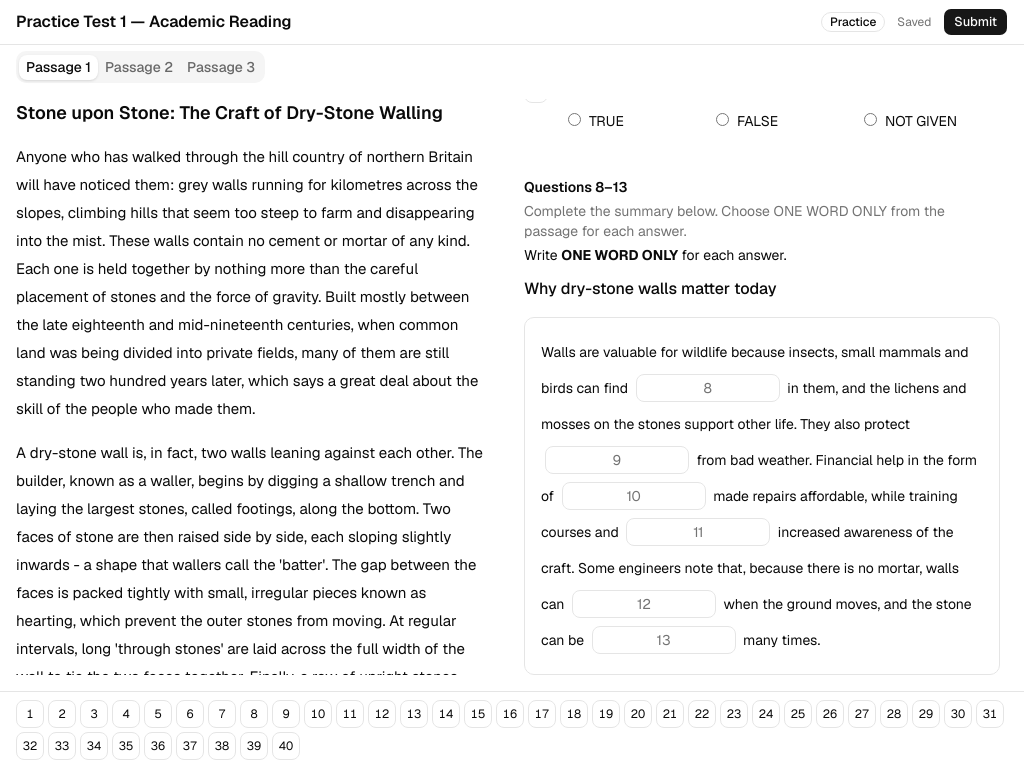
offline submit is blocked with a message
(page scrolled)
Type "moss" into the field named "Question 8".
click(708, 388); type("moss")  # box top-left (636, 374), bottom-right (780, 402)
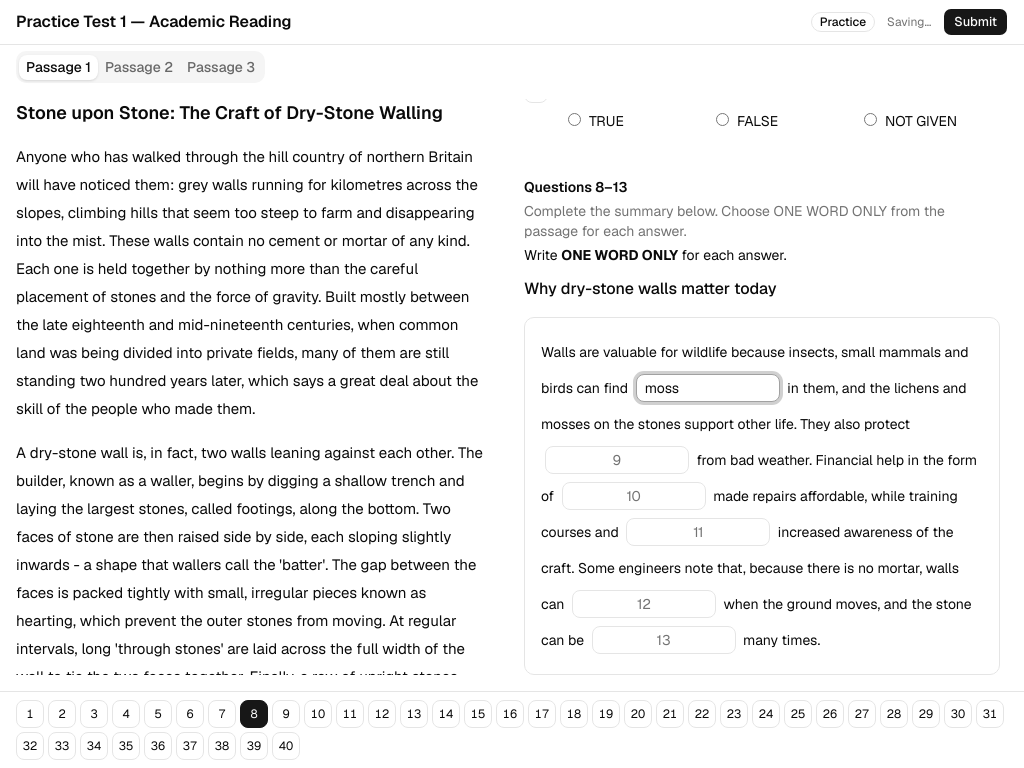
Click the button "Submit".
click(976, 22)  # box top-left (943, 8), bottom-right (1008, 36)
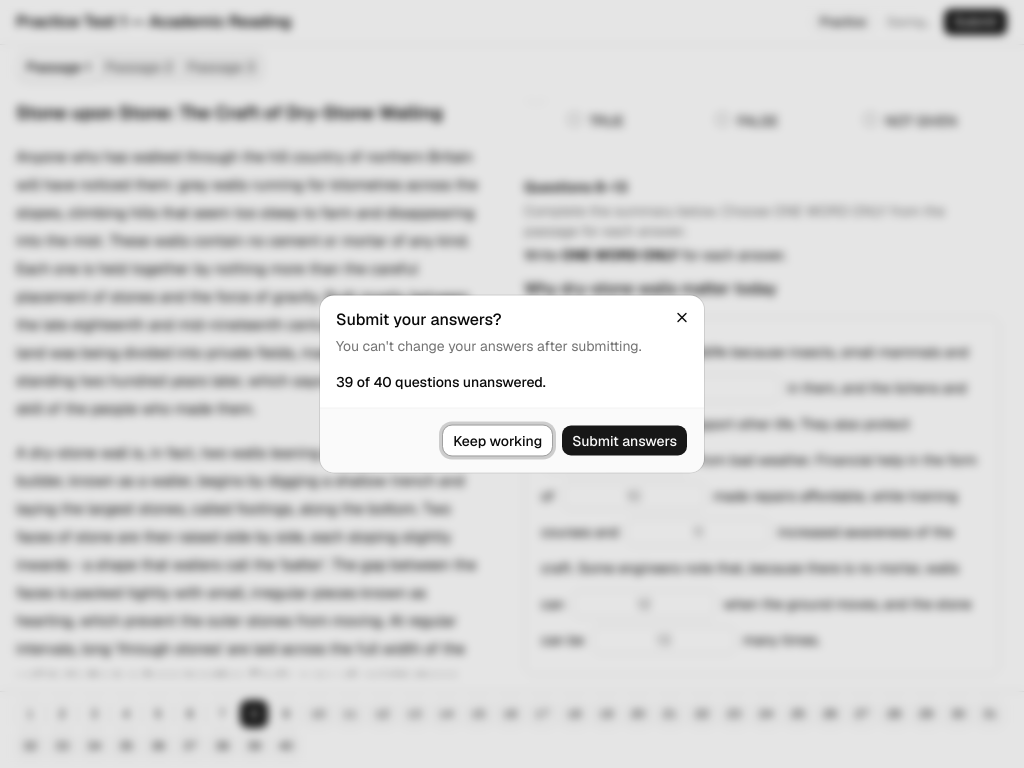
Click the button "Submit answers".
click(625, 440)  # box top-left (561, 424), bottom-right (688, 456)
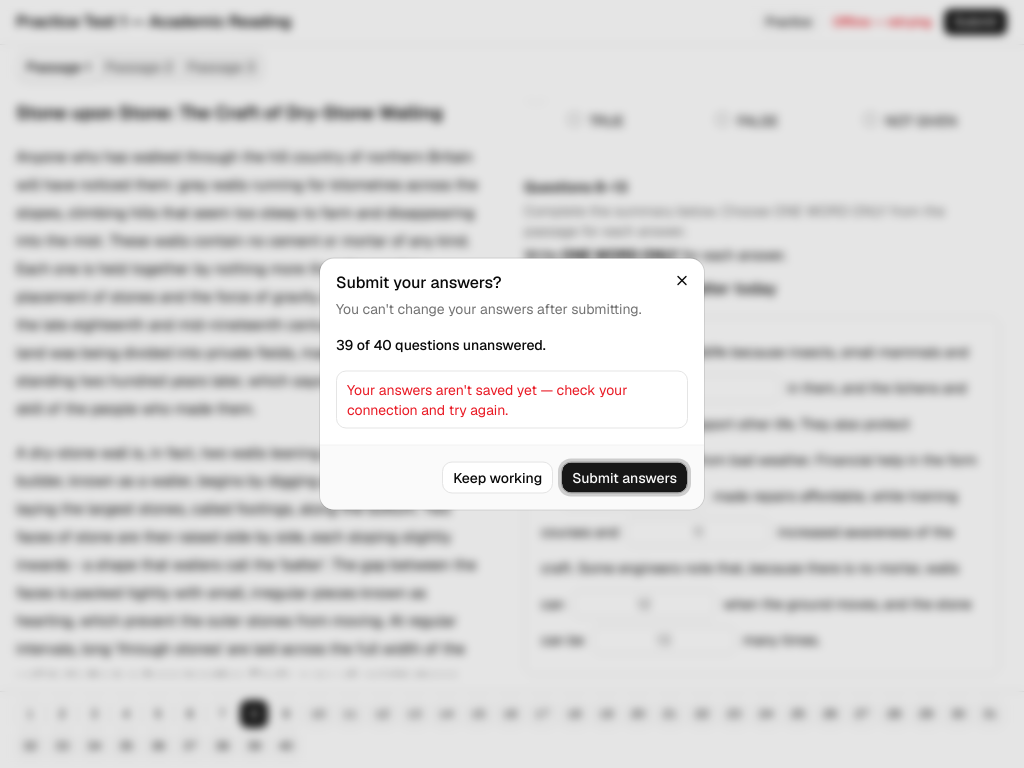
Check: the text "aren't saved yet" is shown, box top-left (347, 380), bottom-right (628, 418)
